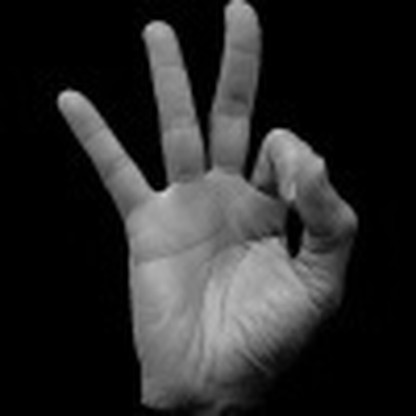f: (51, 1, 357, 392)
